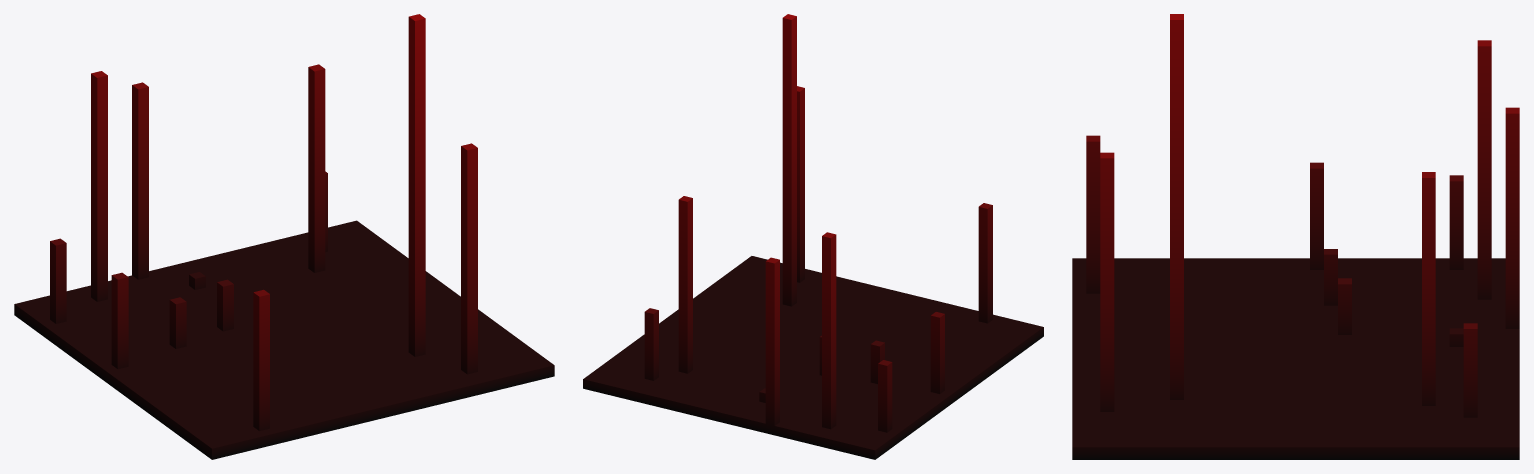
The model's file is grass2.glb.
The picture shows the model from 3 angles, left to right: view 1: azimuth 30°, elevation 25°; view 2: azimuth 150°, elevation 25°; view 3: azimuth 270°, elevation 25°; orthographic projection. The views are drawn at different scales.
Visible parts, largest first — view 1: grass_carpet_with_varied_blades; view 2: grass_carpet_with_varied_blades; view 3: grass_carpet_with_varied_blades.
Part boxes in pixels (x1=…): grass_carpet_with_varied_blades: x1=14, y1=14, x2=554, y2=459; grass_carpet_with_varied_blades: x1=583, y1=14, x2=1043, y2=459; grass_carpet_with_varied_blades: x1=1072, y1=14, x2=1519, y2=459.
Size of the model in its own units: 1 by 0.9688 by 1.
